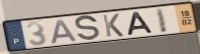3: (26, 20, 49, 47)
A: (50, 18, 79, 45), (127, 11, 155, 37)
I: (154, 7, 169, 34)
K: (101, 13, 126, 38)
S: (74, 14, 102, 43)
